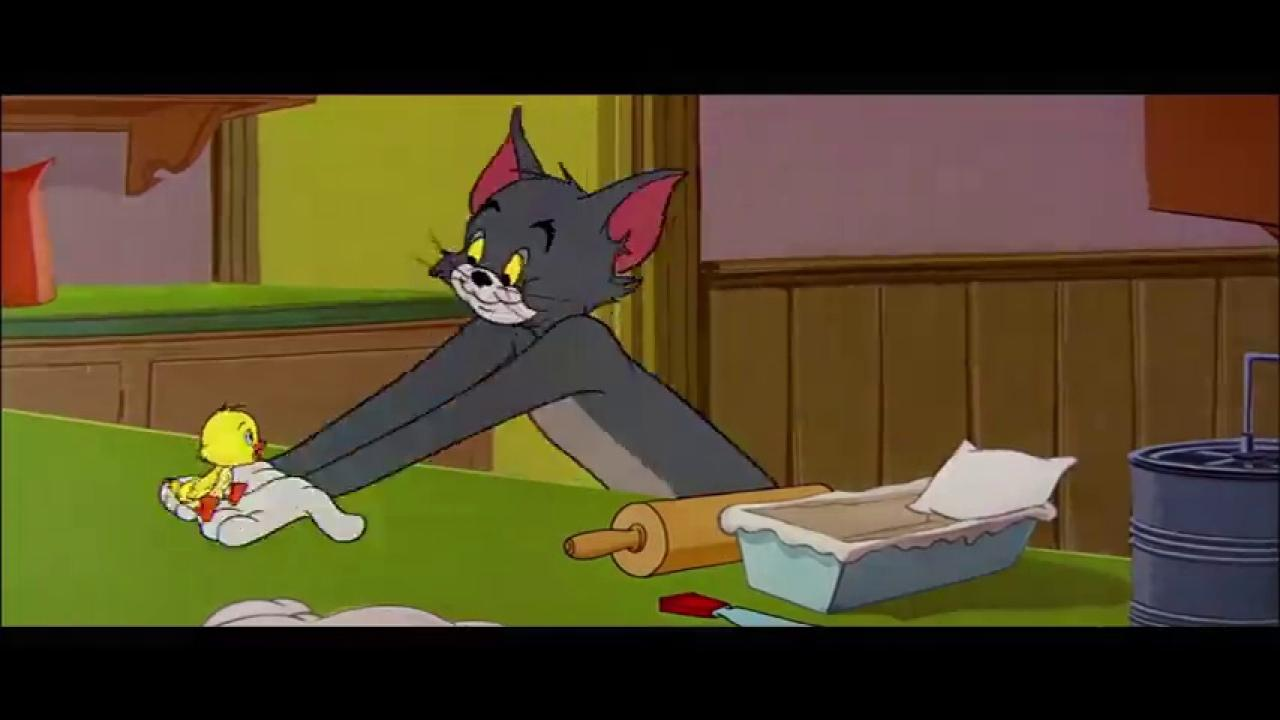Tom: (158, 102, 779, 550)
